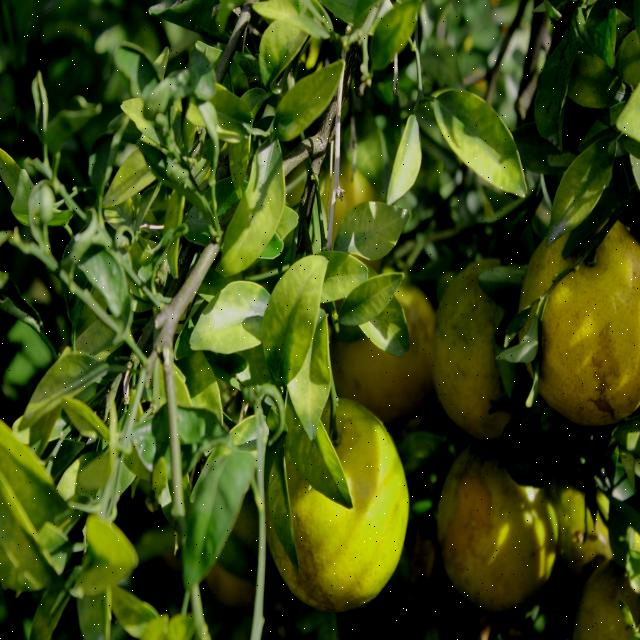greening: (440, 91, 523, 192), (214, 148, 286, 257), (266, 257, 328, 365), (23, 348, 106, 414), (277, 62, 346, 138), (71, 518, 141, 592), (200, 281, 264, 351), (386, 118, 424, 199), (290, 428, 342, 487)
